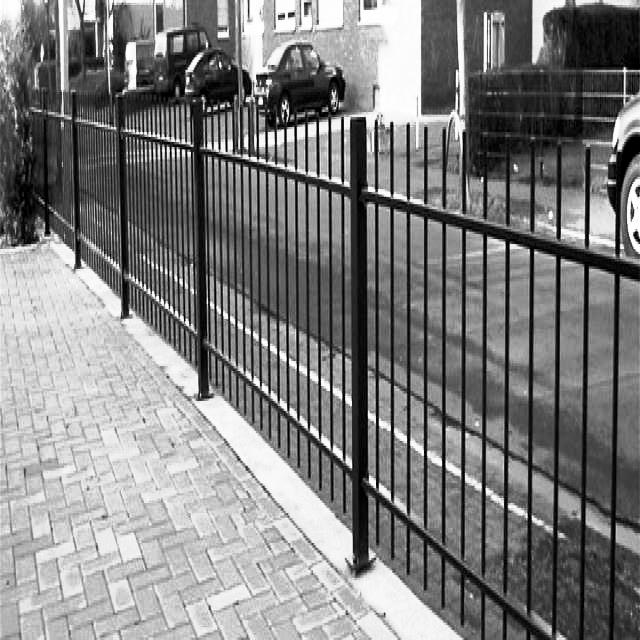fences: (29, 82, 640, 598)
